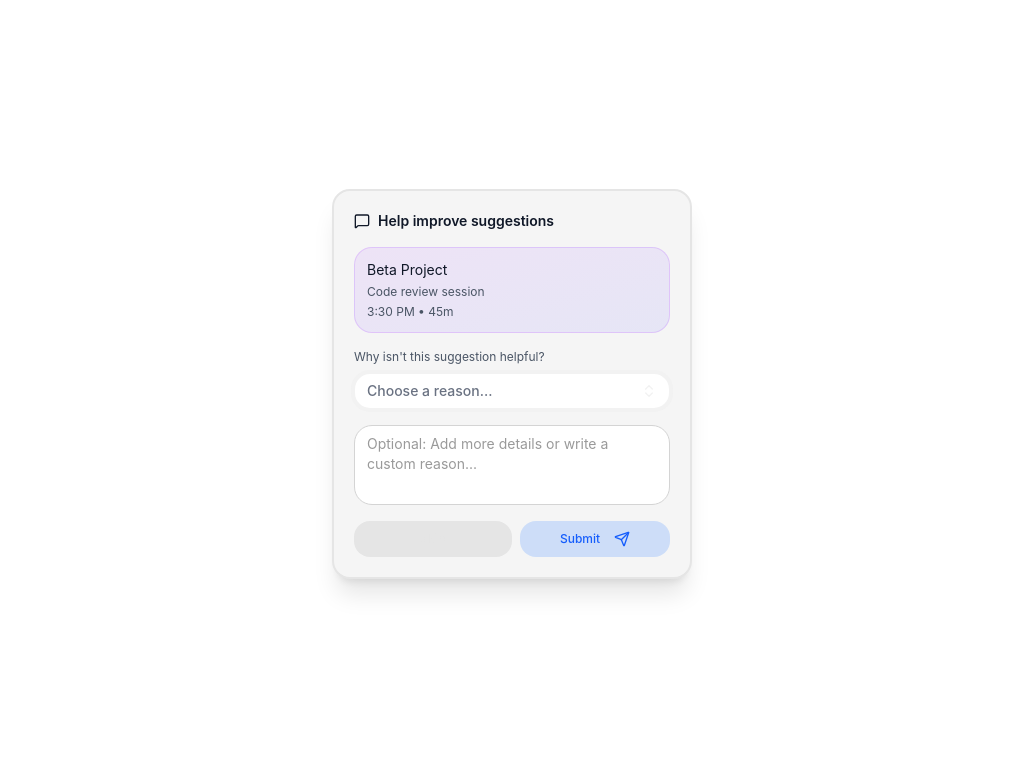
Test: DismissFeedbackModal › Reason Selection via Combobox › should select reason and close dropdown when option is clicked
Click the dropdown at (430, 390), box top-left (354, 373), bottom-right (670, 409)
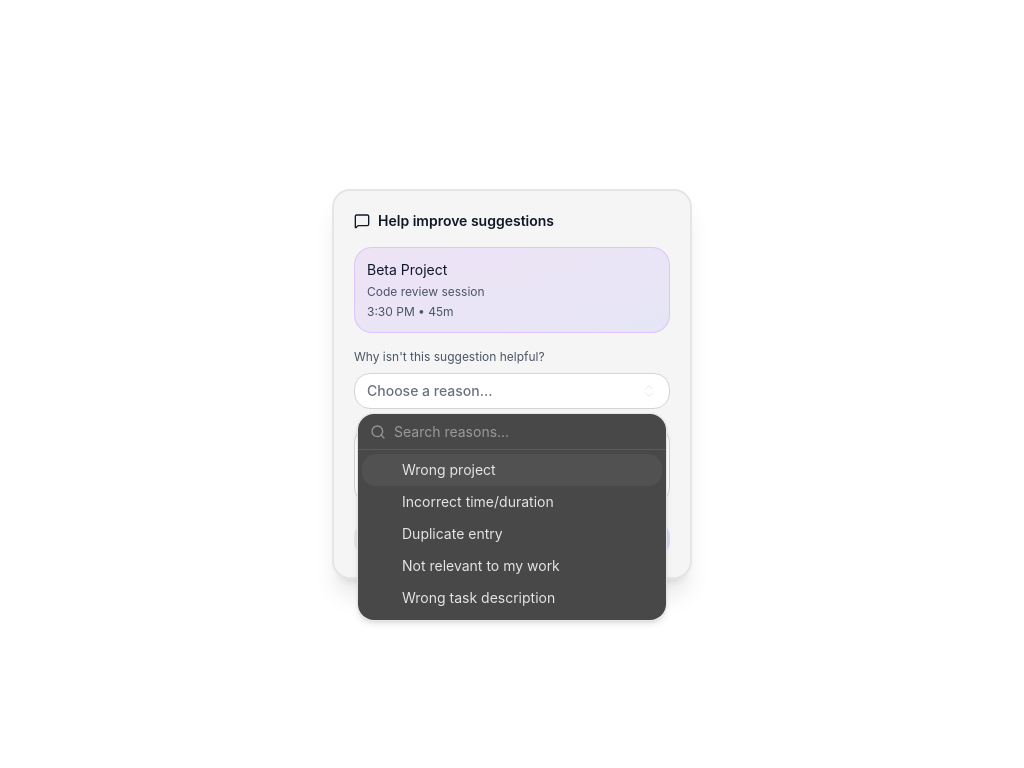
Click the option "Wrong project" at (449, 470), box top-left (362, 454), bottom-right (662, 486)
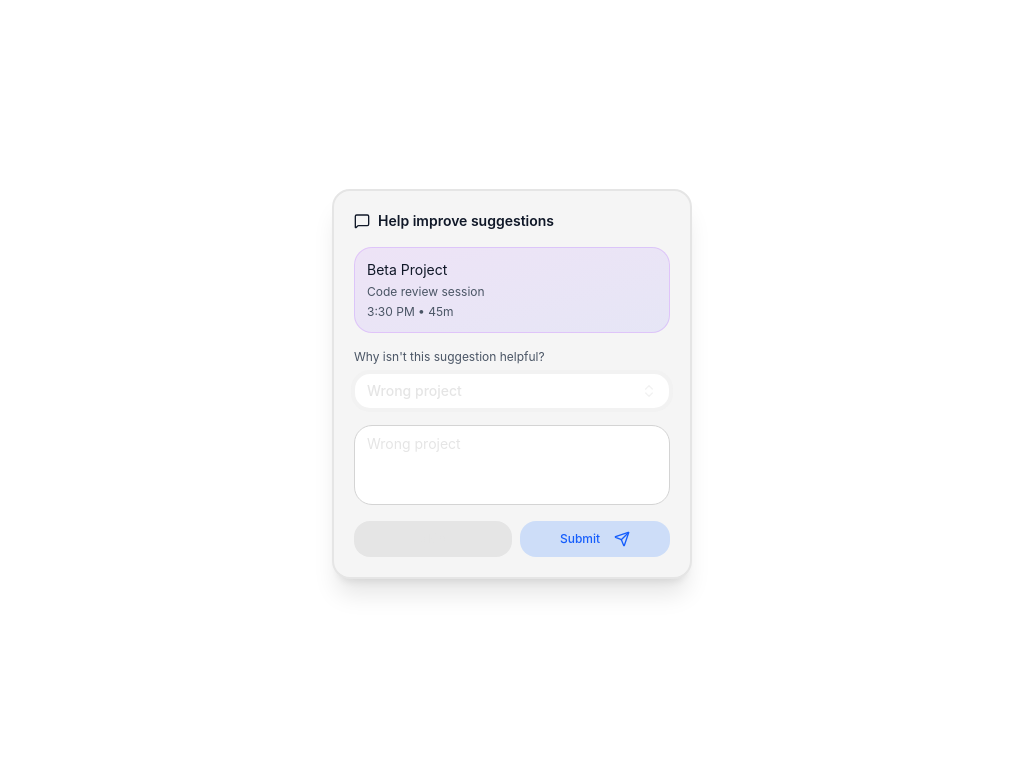
Expected: the dropdown reads "Wrong project", top-left (354, 373), bottom-right (670, 409)
